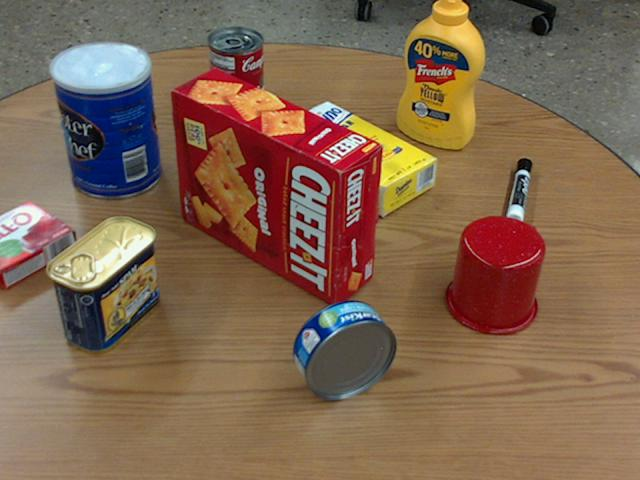cracker_box: (171, 68, 381, 306)
gelatin_box: (0, 200, 73, 286)
large_marker: (507, 158, 533, 226)
master_chef_can: (50, 42, 159, 199)
mug: (444, 215, 545, 334)
mustard_bottle: (398, 0, 485, 148)
potted_meat_can: (45, 214, 156, 351)
sugar_box: (276, 101, 437, 215)
tomato_soup_can: (208, 26, 263, 123)
tuna_fish_can: (293, 300, 396, 399)
